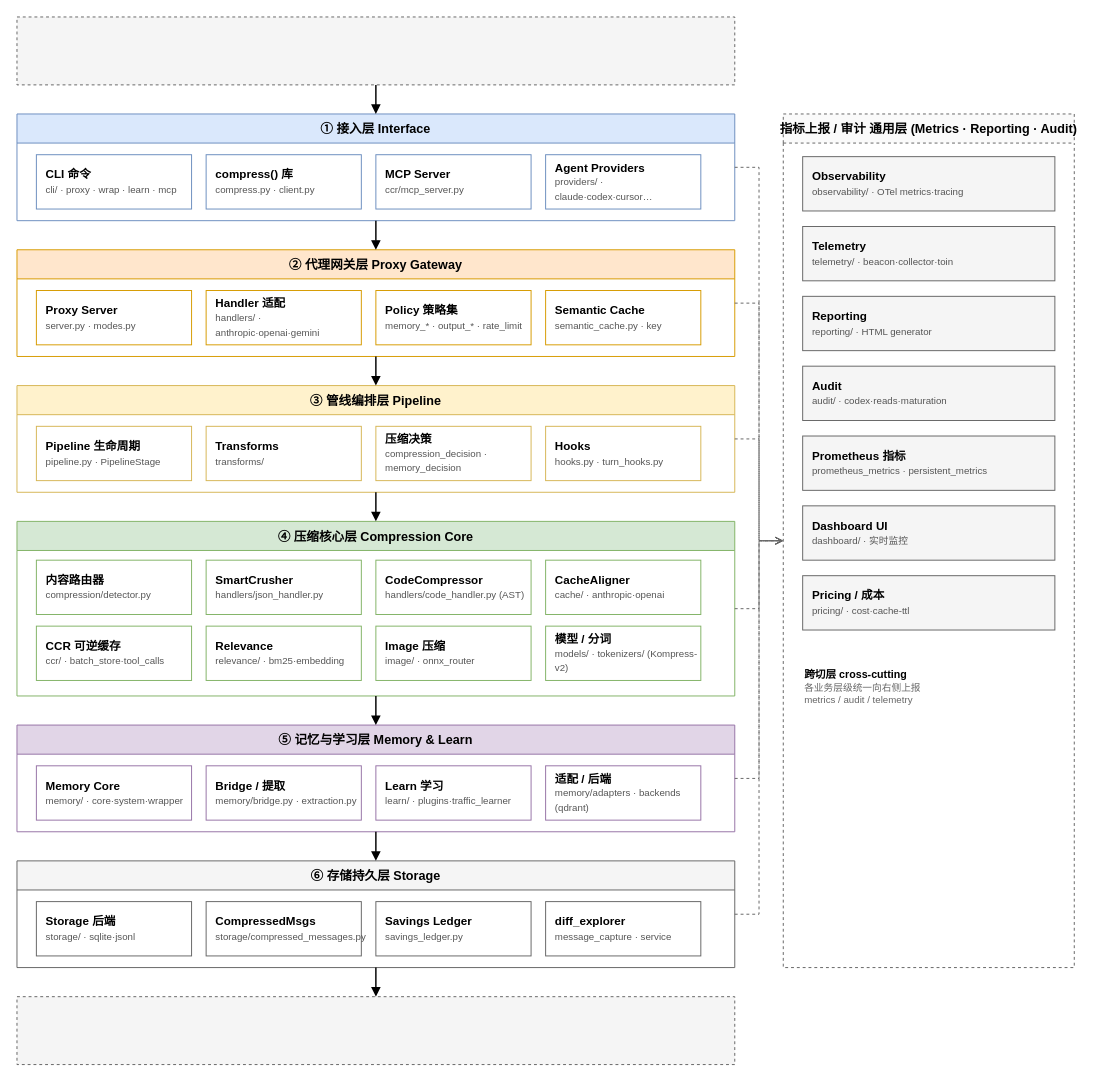
The diagram is 1094 pixels wide and 1082 high, and some of its shapes have lost their labels. The centre of each missing label's shape, as x and y in pixels:
Agents / Apps 接入方 Claude Code · Cursor · Codex · Copilot · Gemini · Grok · ...: pixel 375 50
LLM Providers 上游 Anthropic · OpenAI · Bedrock · Gemini · ...: pixel 375 1030
